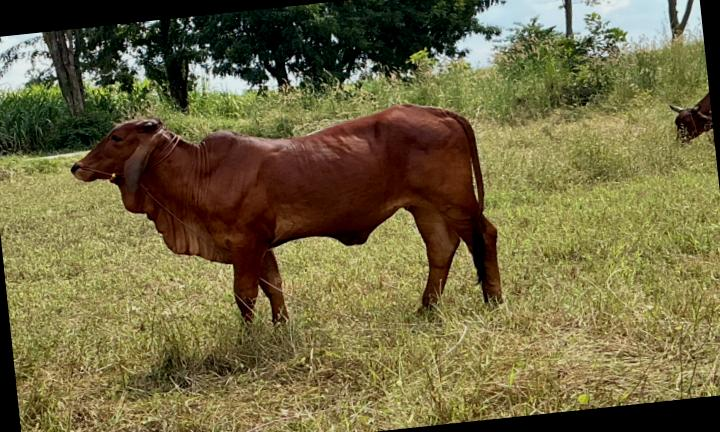Brahman: (71, 104, 500, 321)
